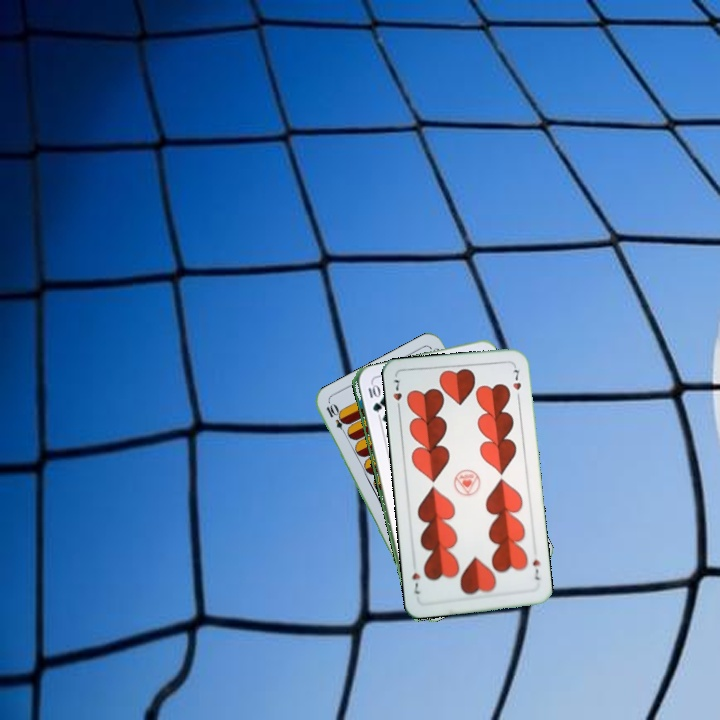E10: (322, 400, 350, 438)
G10: (364, 380, 382, 415)
H7: (389, 375, 404, 414), (528, 556, 542, 582)
